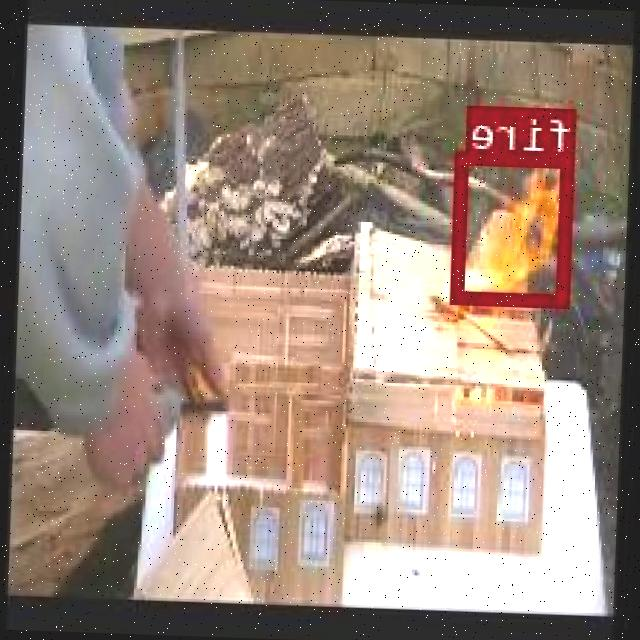fire: (454, 148, 576, 303)
